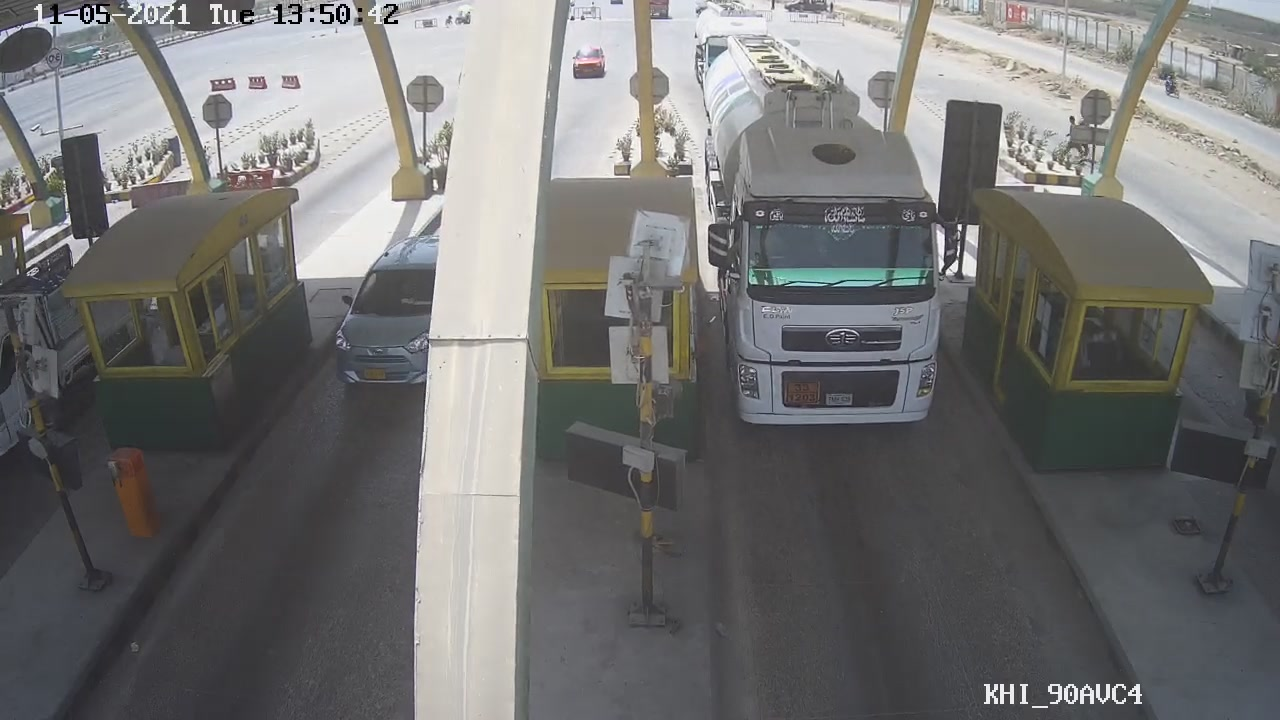F6: (699, 70, 960, 426)
